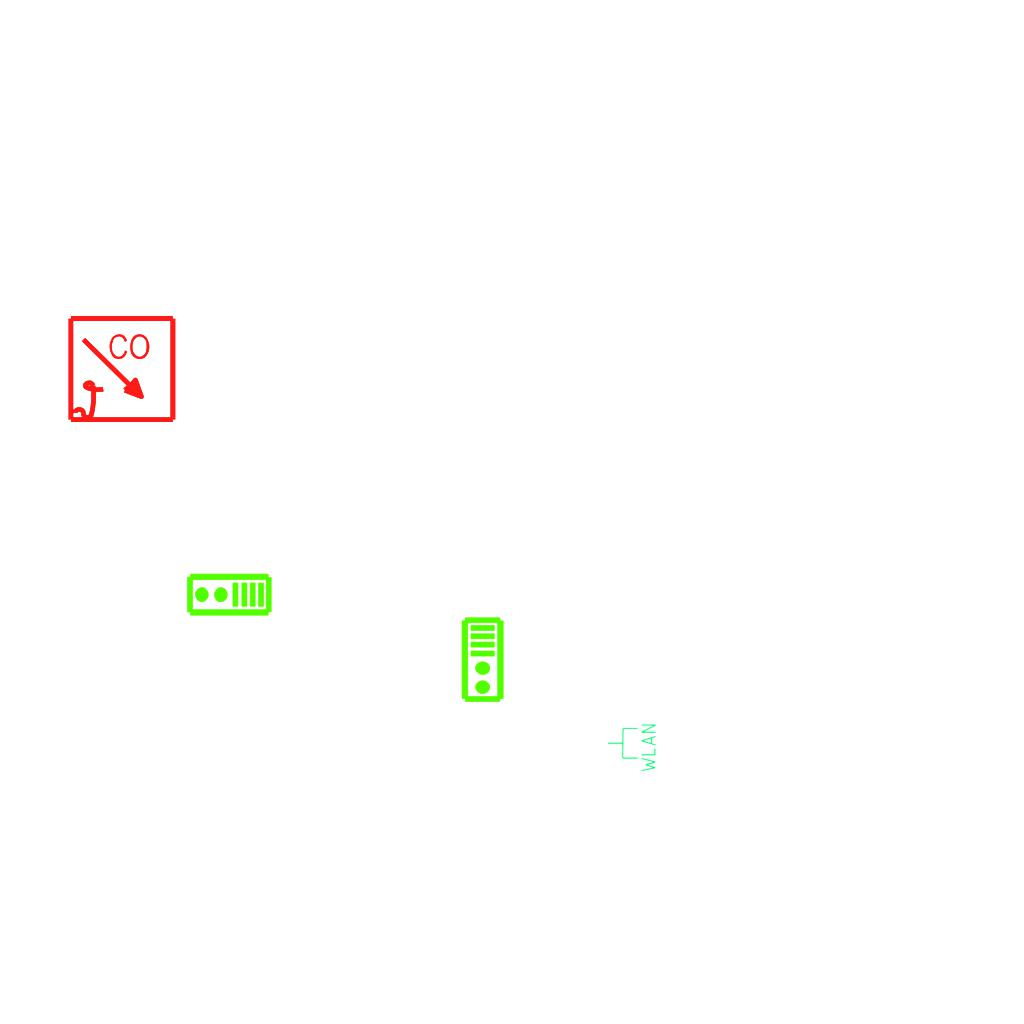Gegensprechanlage_mit_Video: (460, 616, 507, 704), (185, 572, 273, 619)
ROA_Rauchmelder_optisch_mit_Signalgeber_(Sockelsirene): (66, 314, 179, 427)
WLAN: (606, 722, 658, 774)
